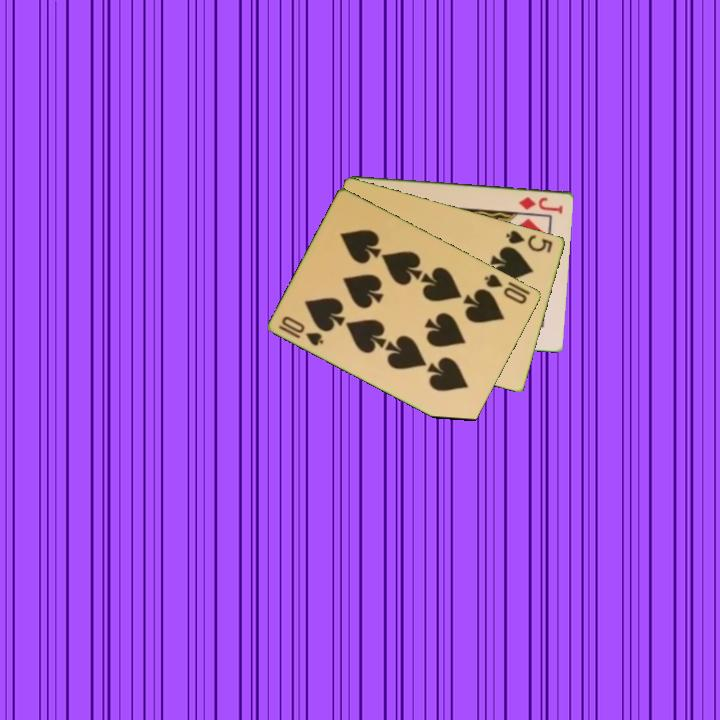10s: (275, 312, 327, 349), (481, 270, 530, 307)
5s: (503, 226, 556, 255)
Jd: (516, 193, 566, 216)
